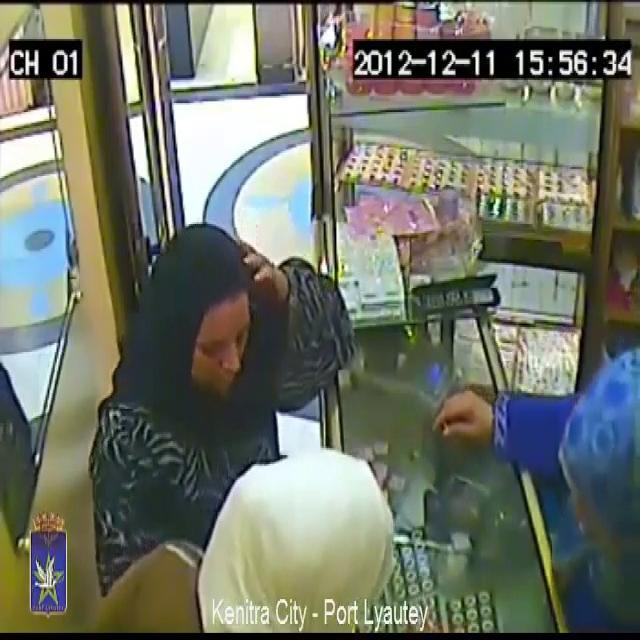Product: (440, 397, 456, 443)
normal: (159, 399, 391, 640), (173, 185, 290, 402)
shoplifting: (421, 182, 640, 627)
